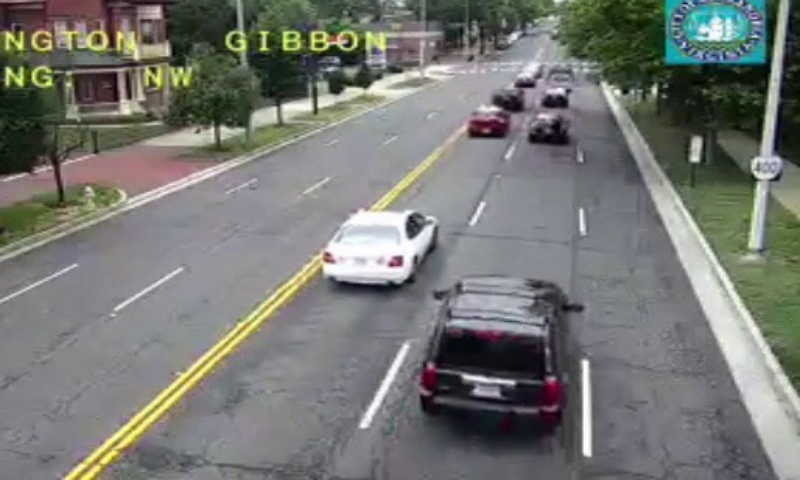car: (423, 275, 564, 427), (322, 209, 438, 282), (466, 106, 507, 135), (529, 113, 566, 142), (493, 87, 524, 109)
